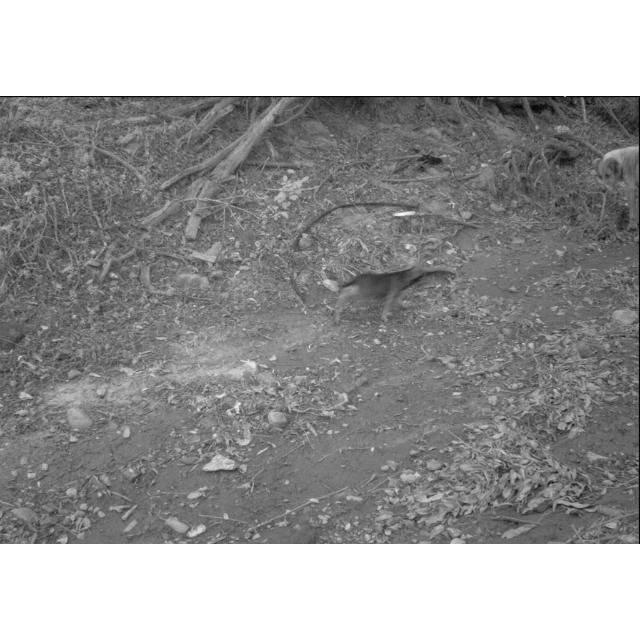animals: (316, 264, 464, 328)
